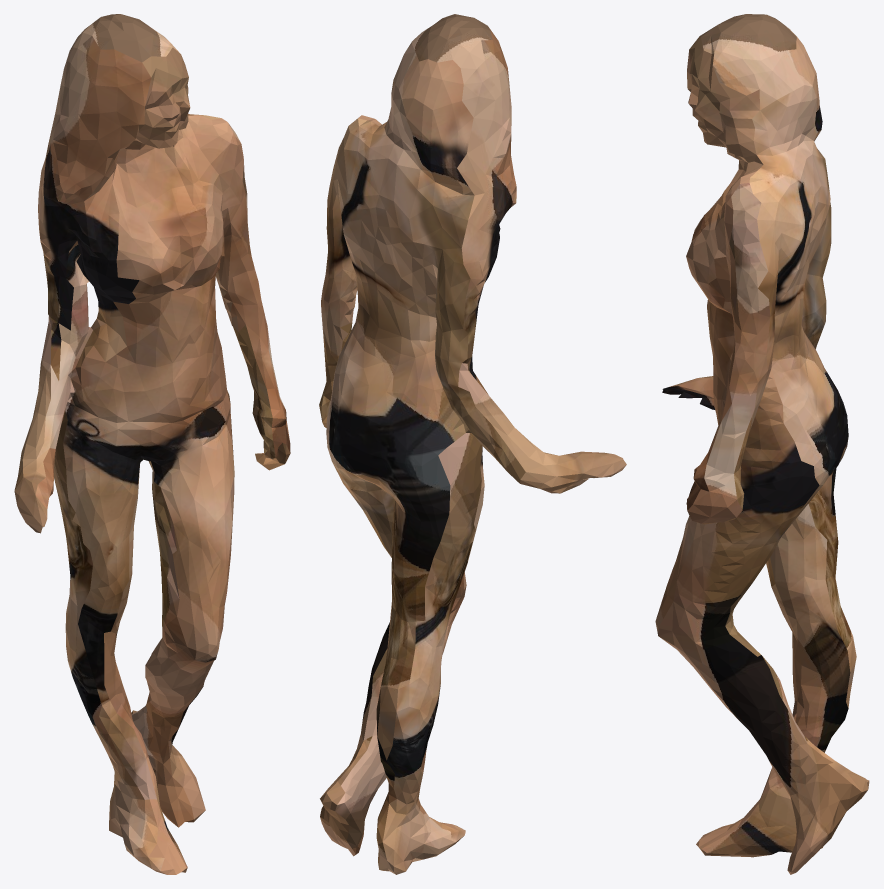
File: wgirl_3.glb
3 views of the same model, side by side, from view 1: azimuth 30°, elevation 25°; view 2: azimuth 150°, elevation 25°; view 3: azimuth 270°, elevation 25° (orthographic). The views are drawn at different scales.
Visible parts, largest first — view 1: wgirl_3; view 2: wgirl_3; view 3: wgirl_3.
Part boxes in pixels (bbox=[...]): wgirl_3: bbox=[14, 14, 290, 874]; wgirl_3: bbox=[319, 14, 626, 874]; wgirl_3: bbox=[655, 14, 869, 874].
Size of the model in its own units: 0.5738 by 1.69 by 0.4004.
1 material, 1 textured.
